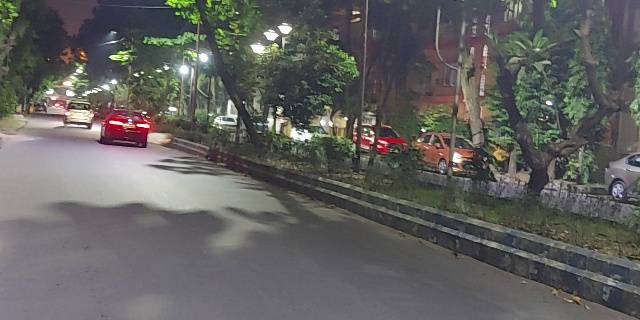Car: (98, 108, 149, 146), (61, 97, 95, 130)
